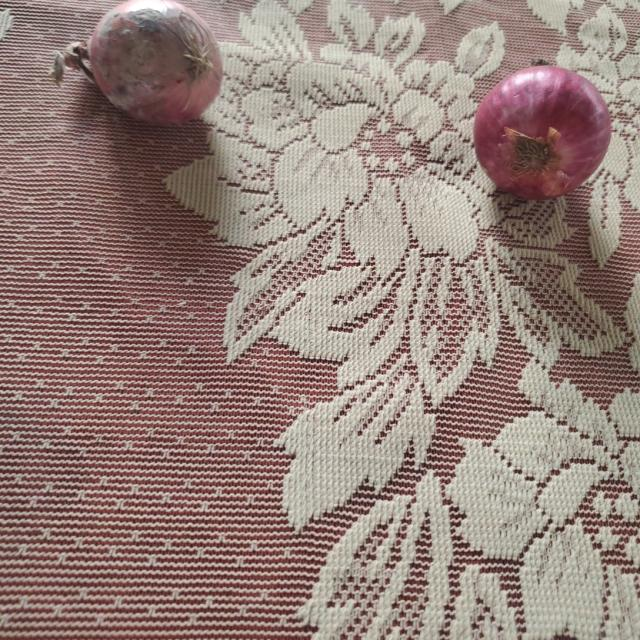onion: (50, 0, 219, 128), (477, 67, 612, 200)
